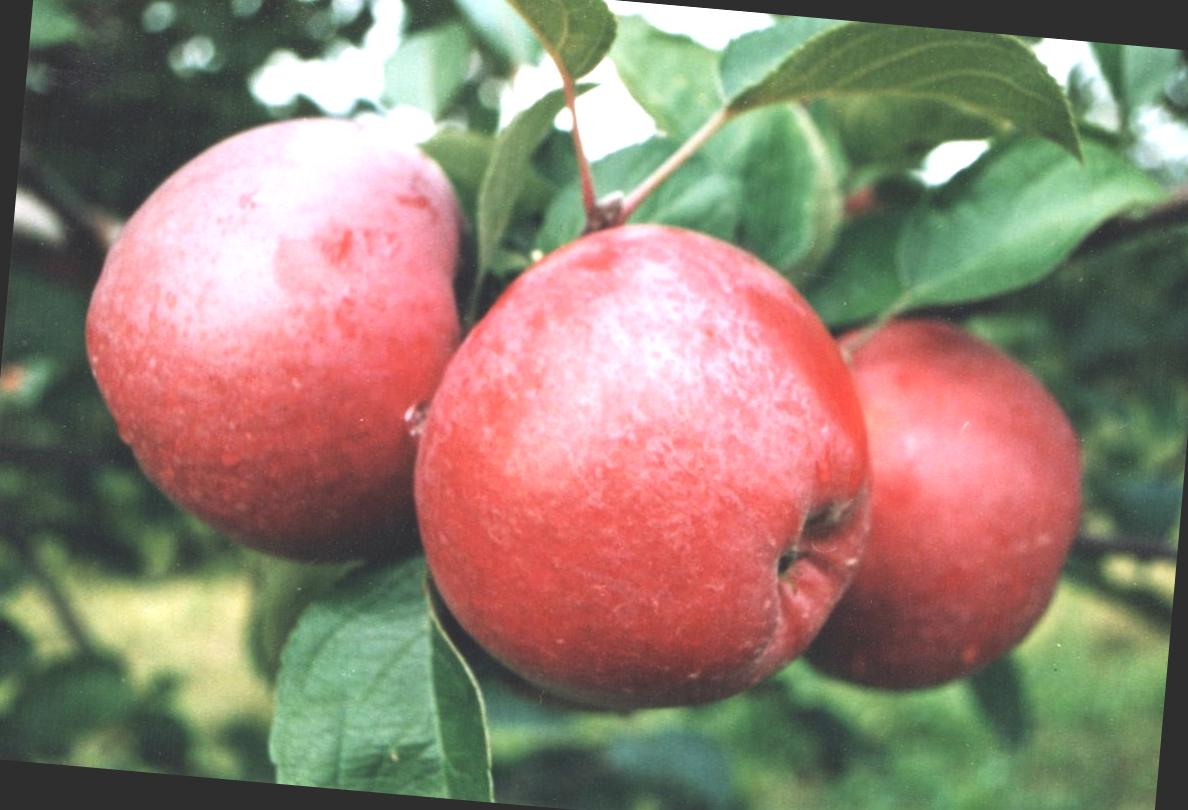Apple Ripe: (419, 205, 896, 696), (69, 103, 499, 615), (787, 249, 1118, 705)
